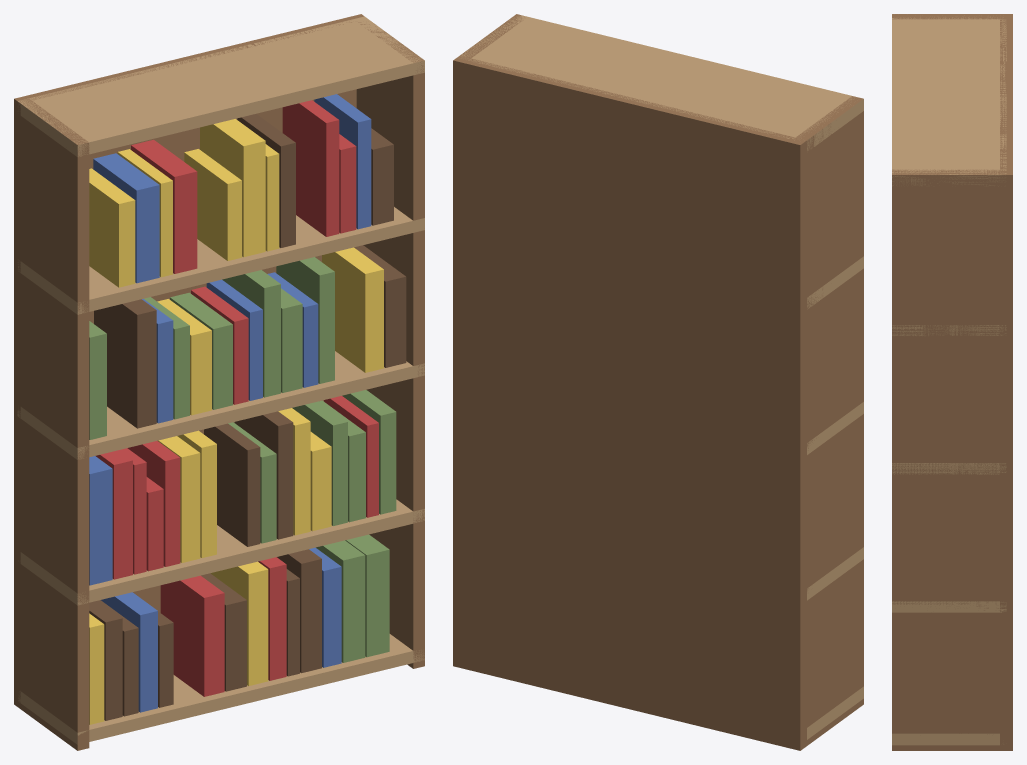
Rendered from SM_Bookshelf.glb.
The picture shows the model from 3 angles, left to right: view 1: azimuth 30°, elevation 25°; view 2: azimuth 150°, elevation 25°; view 3: azimuth 270°, elevation 25°; orthographic projection. The views are drawn at different scales.
Visible parts, largest first — view 1: SM_Bookshelf; view 2: SM_Bookshelf; view 3: SM_Bookshelf.
Boxes of the visible parts, box(x1,y1,x2,y2) form: SM_Bookshelf: box(14, 14, 424, 750); SM_Bookshelf: box(453, 14, 863, 750); SM_Bookshelf: box(892, 14, 1012, 750).
Bounding box in the file's own units: 1.2 × 2 × 0.38.
